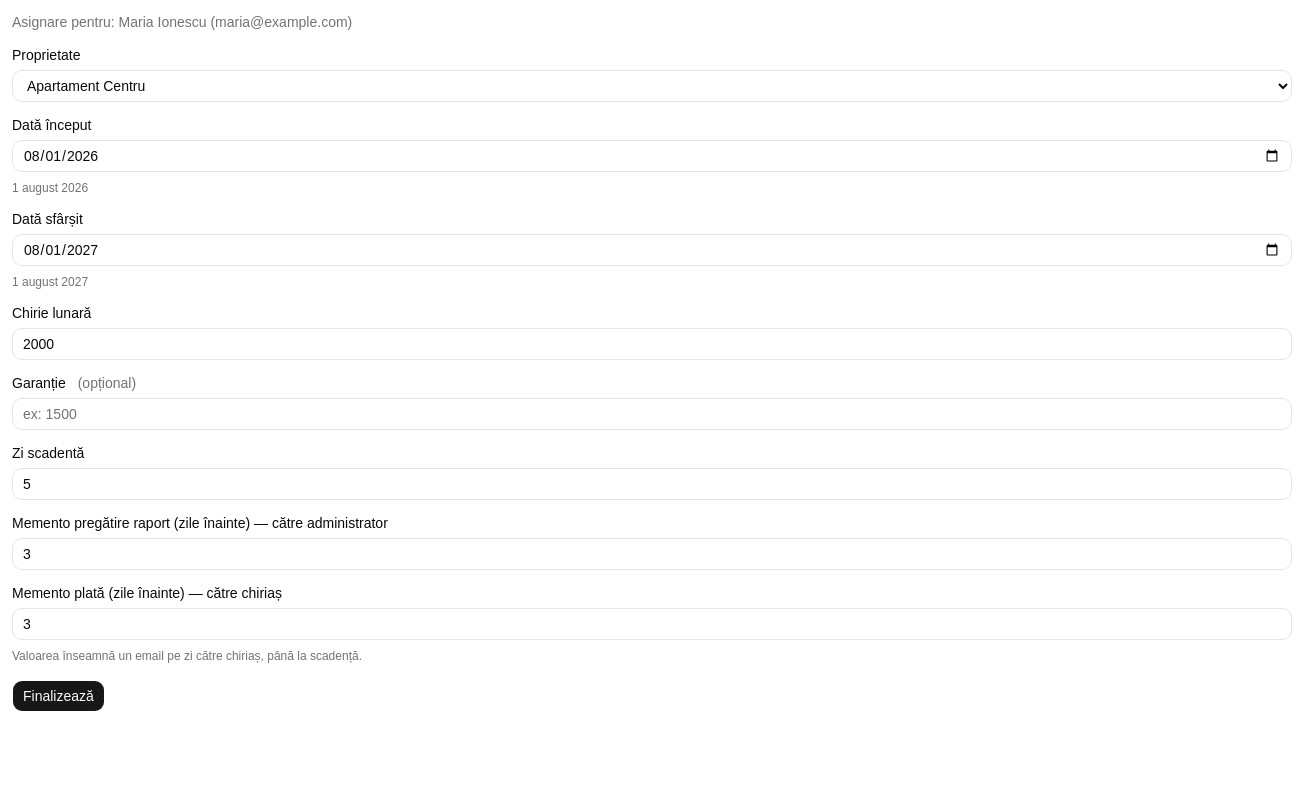
Test case: StepContract — FR-TEN-27 (no tenancy on an unusable account) › a DISABLED account shows a naming message and an inline re-enable action
Step 1. Click the button "Finalizează" → (58, 696), box [12,680,105,712]
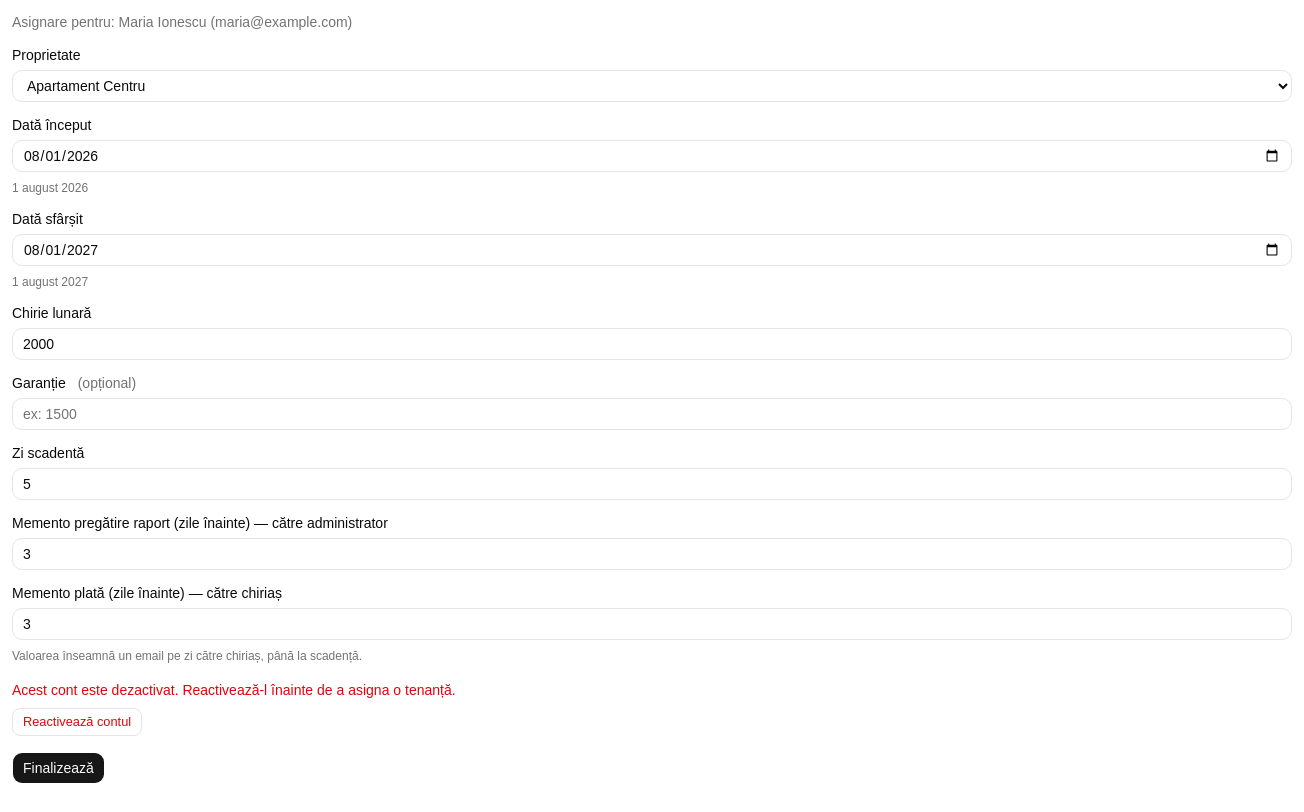
Result: the message shows "Acest cont este dezactivat" at [12,682,456,698]
Step 2. Click the button "Reactivează contul" → (77, 722), box [12,708,142,736]
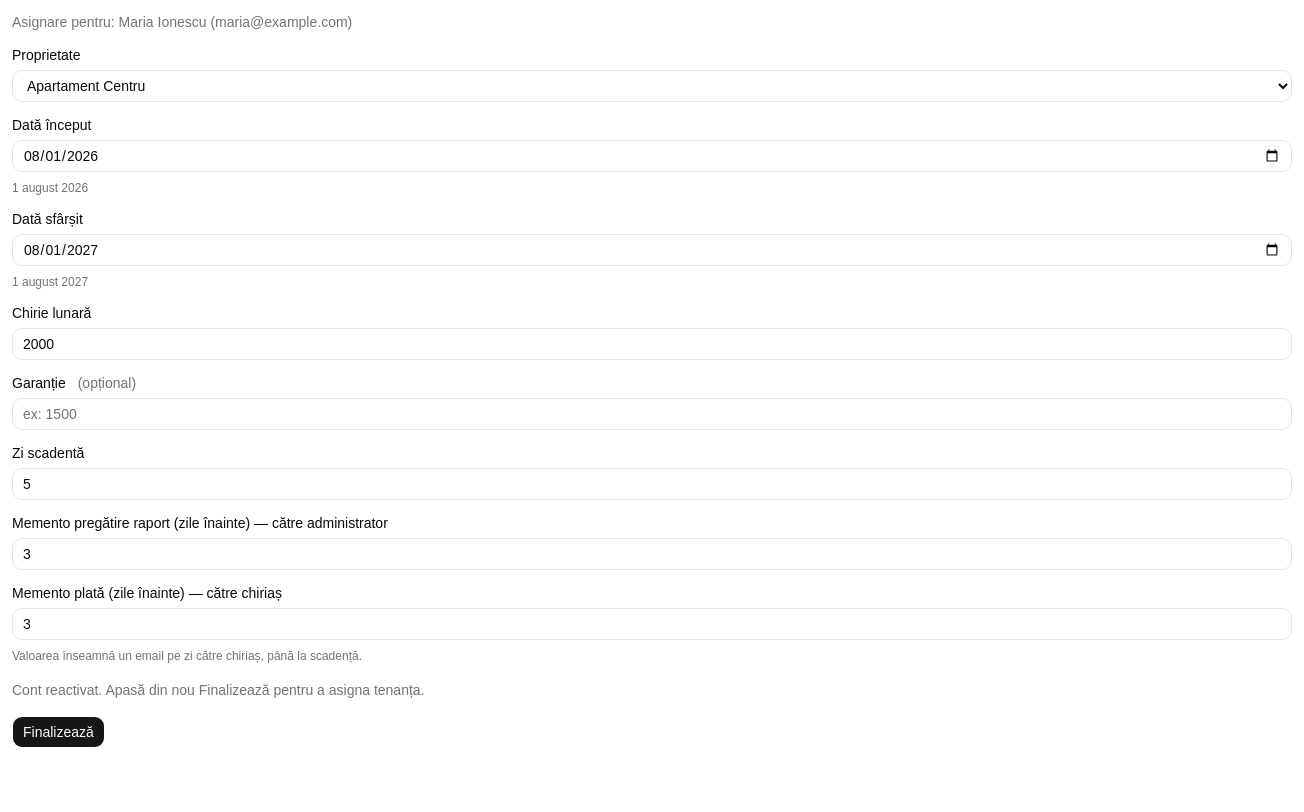
Result: the text "Cont reactivat. Apasă din nou Finalizează pentru a asigna tenanța." is shown at [12,682,424,698]
